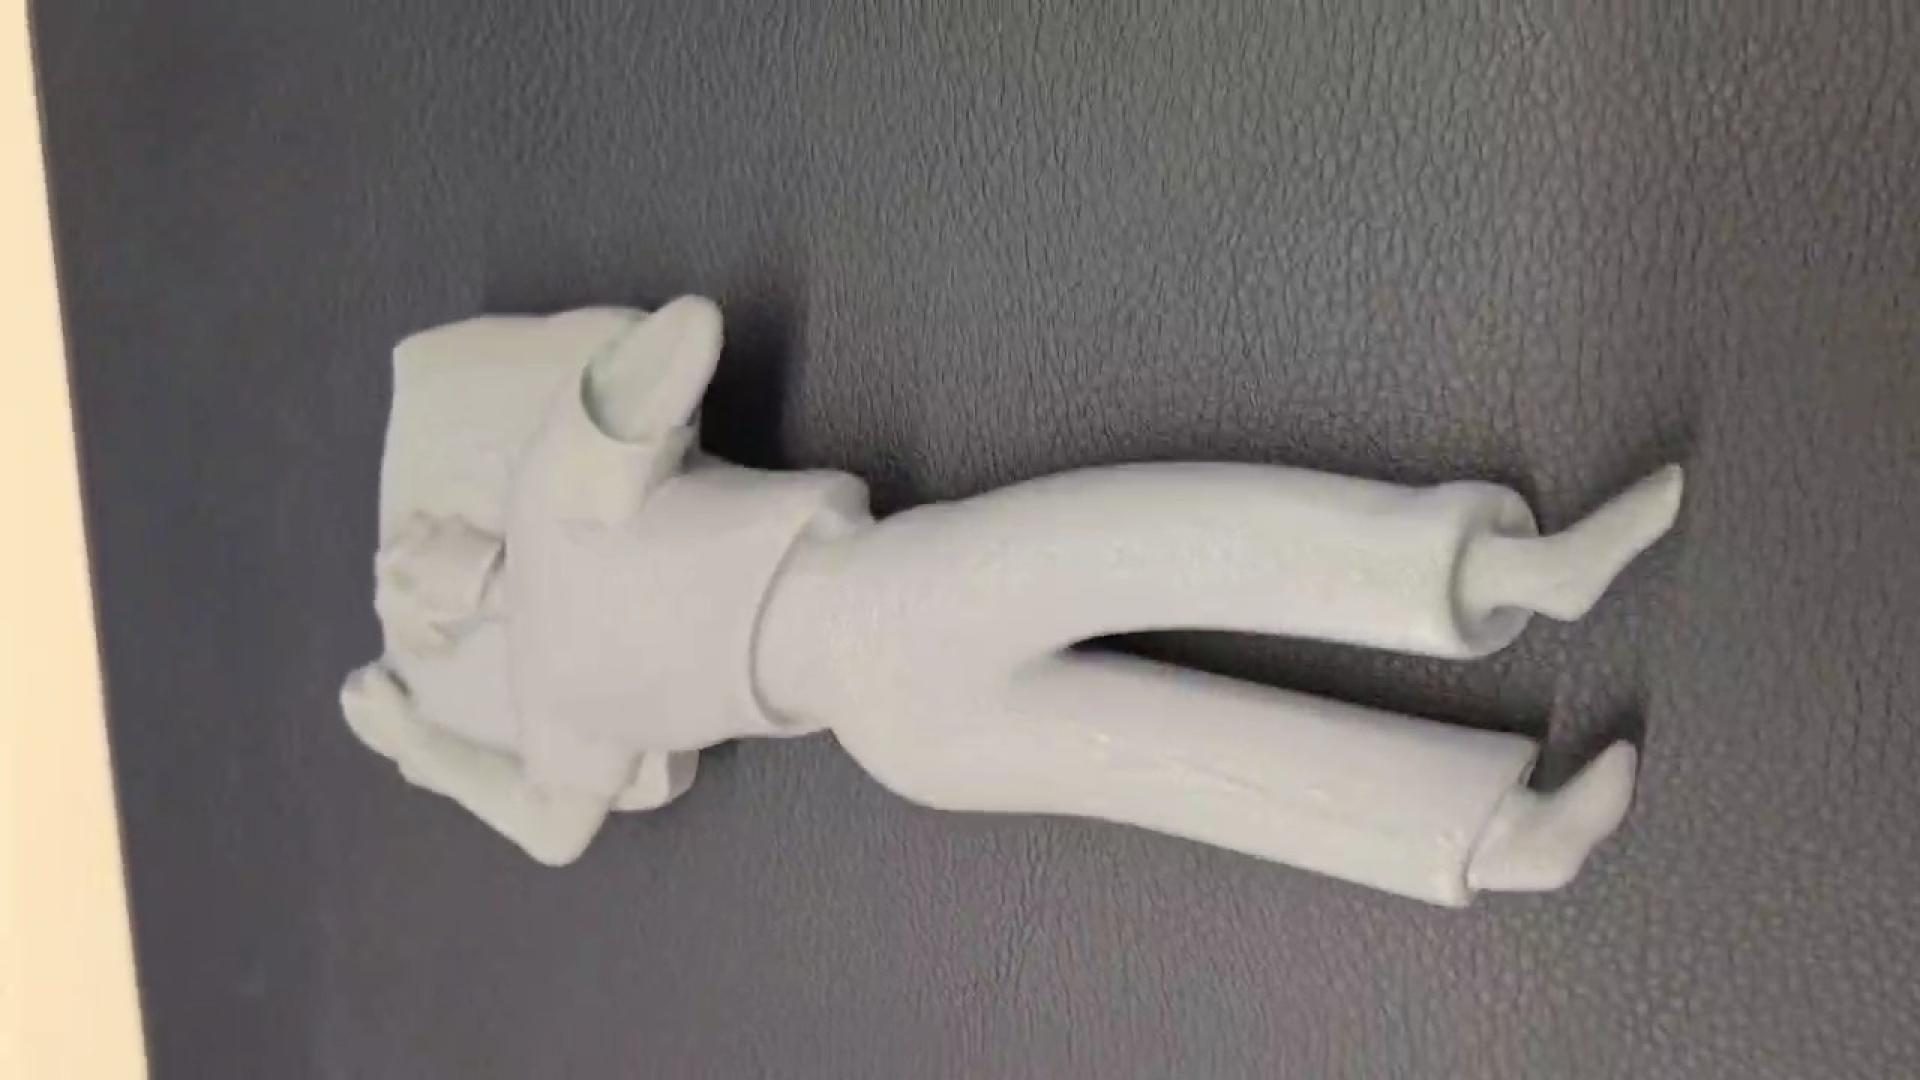Bad-style: (332, 286, 1700, 920)
